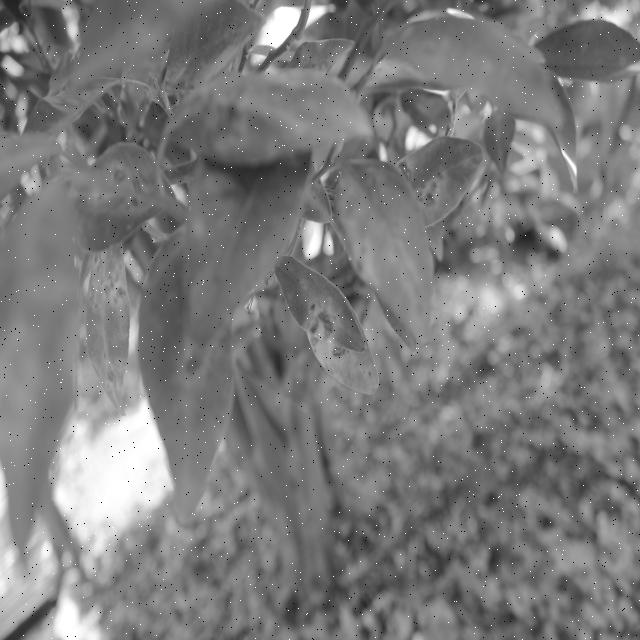canker: (0, 255, 72, 459), (338, 188, 428, 300), (300, 283, 369, 384), (86, 244, 128, 409), (190, 78, 273, 161), (391, 154, 462, 225), (86, 160, 154, 212), (172, 325, 220, 396)
